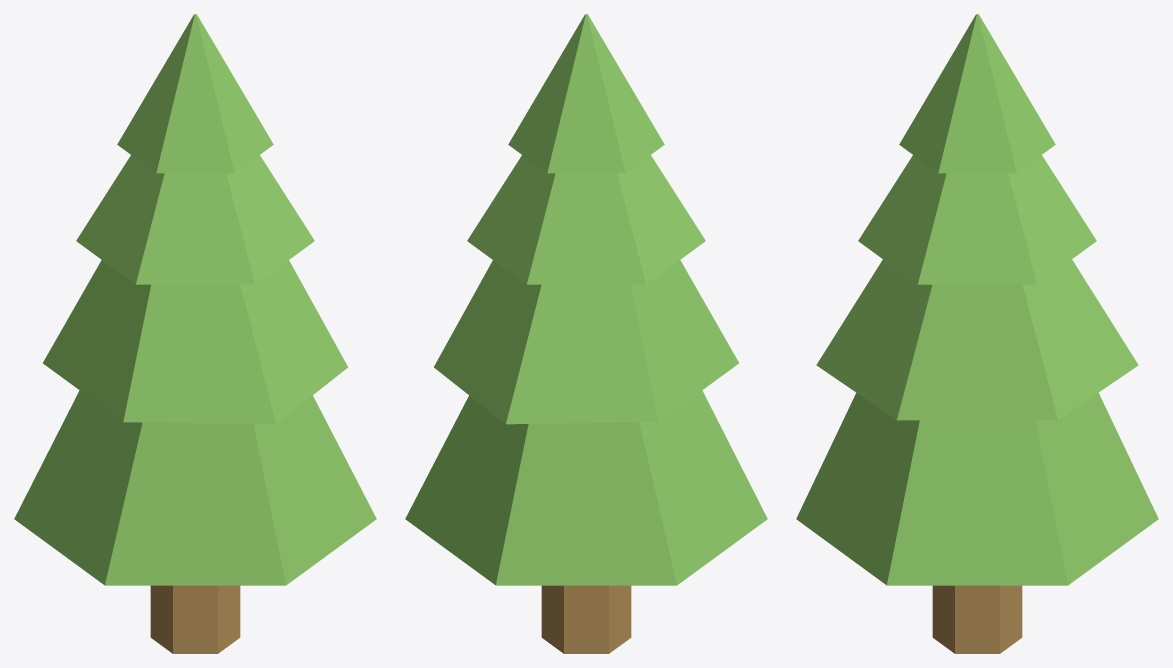
File: tree01.fbx
3 renders of one model, left to right at view 1: azimuth 30°, elevation 25°; view 2: azimuth 150°, elevation 25°; view 3: azimuth 270°, elevation 25°, orthographic.
Visible parts, largest first — view 1: Cylinder; view 2: Cylinder; view 3: Cylinder.
Boxes of the visible parts, x1=… form: Cylinder: x1=14, y1=14, x2=376, y2=653; Cylinder: x1=405, y1=14, x2=767, y2=653; Cylinder: x1=796, y1=14, x2=1158, y2=653.
Size of the model in its own units: 699 by 1531 by 808.
